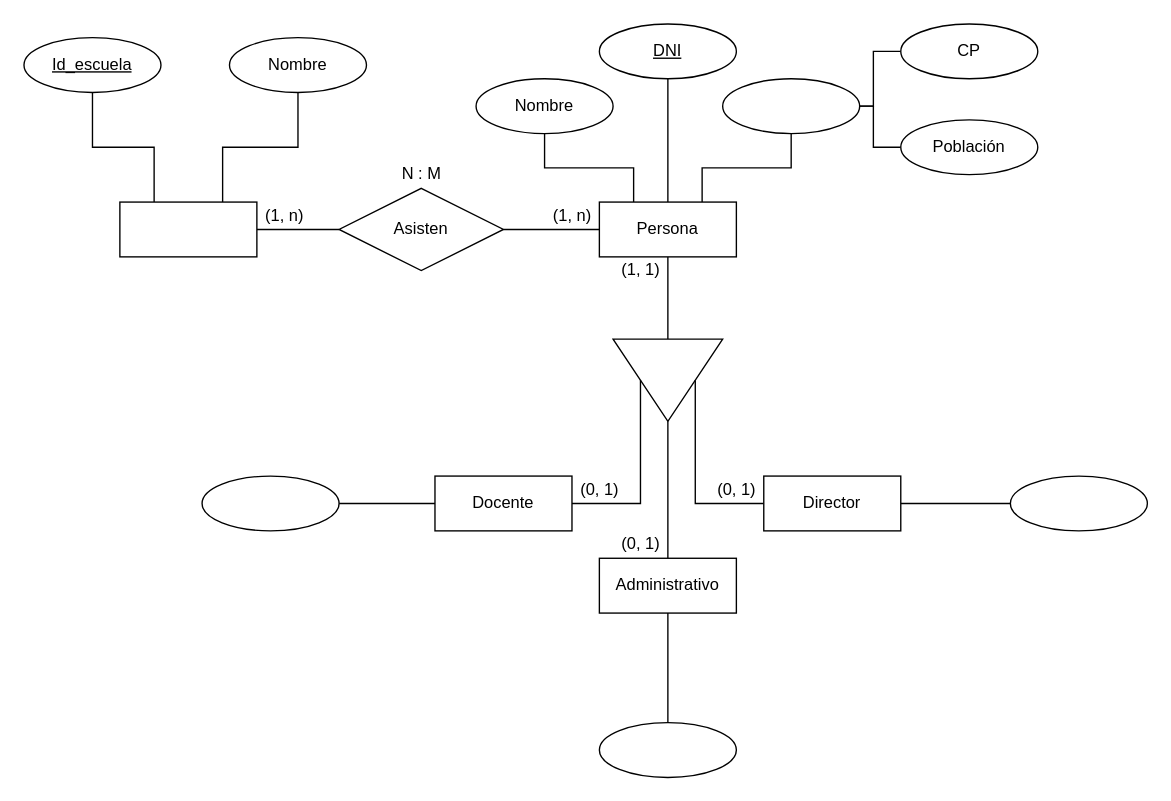
The diagram is 1171 pixels wide and 801 high, and some of its shapes have lost their labels. The centre of each missing label's shape, as x and y in pixels:
Dirección: (x=790, y=105)
Es: (x=667, y=379)
Escuela: (x=188, y=229)
Grado: (x=1078, y=503)
Grupo: (x=667, y=749)
Materia: (x=270, y=503)
